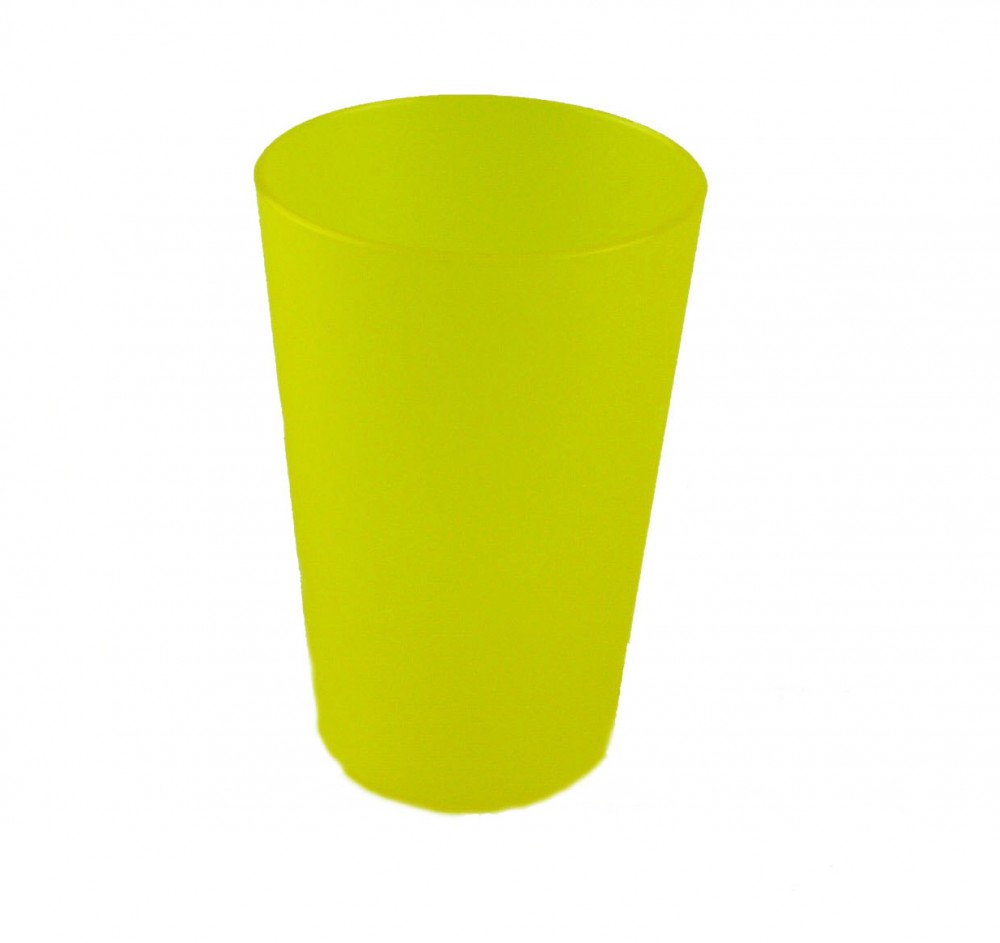plastic_glass: (238, 83, 713, 826)
